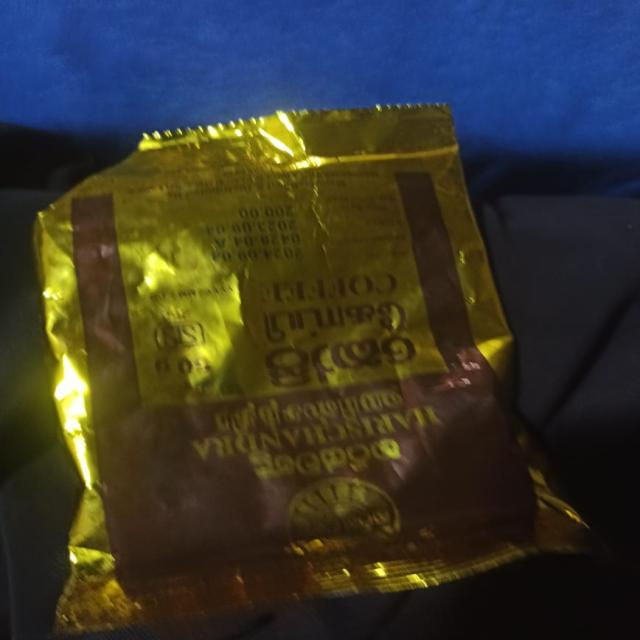Harischandra Coffee: (31, 136, 541, 640)
